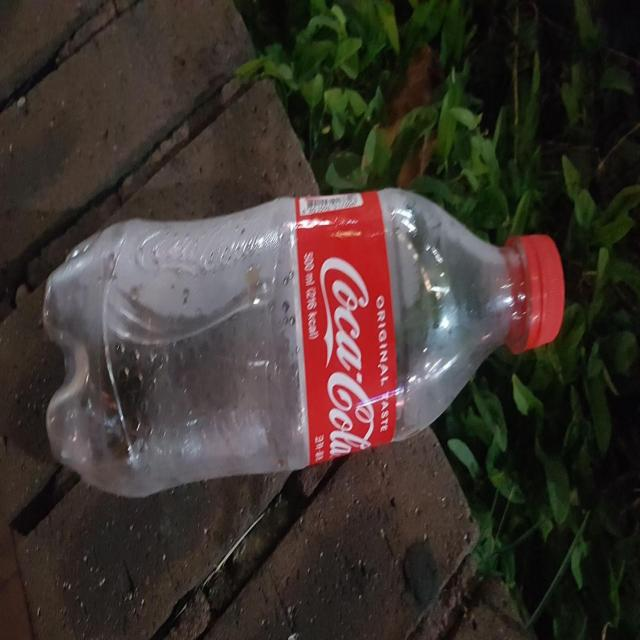plastic: (43, 188, 565, 496)
